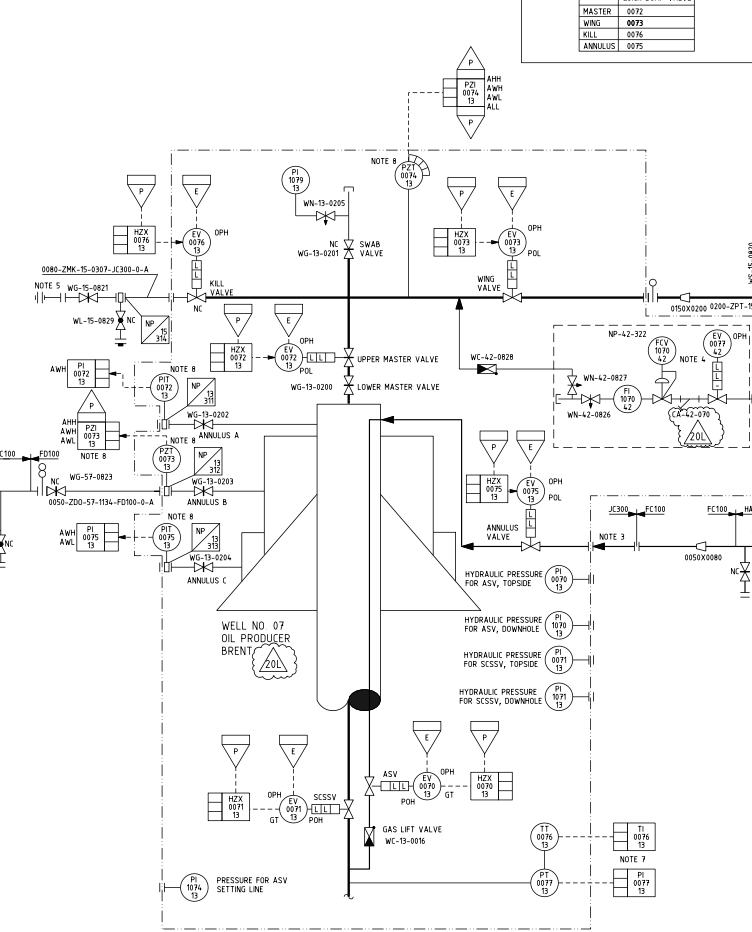Instrument: (523, 816, 565, 853), (272, 160, 315, 196), (391, 157, 429, 197), (269, 339, 306, 377), (541, 558, 577, 596), (613, 381, 647, 421), (175, 224, 215, 258), (642, 334, 680, 368), (408, 769, 444, 804), (149, 439, 185, 474), (544, 678, 574, 719), (528, 864, 562, 900), (277, 788, 308, 827), (148, 519, 183, 553), (543, 606, 576, 642), (148, 369, 182, 402), (544, 643, 576, 678), (701, 327, 733, 361), (179, 869, 210, 904), (498, 227, 531, 256), (517, 473, 546, 506)
Instrument-square: (423, 222, 486, 261), (603, 862, 663, 901), (60, 347, 114, 390), (206, 337, 257, 382), (608, 812, 662, 854), (108, 219, 164, 258), (67, 416, 122, 453), (466, 766, 518, 805), (202, 786, 254, 825), (466, 467, 513, 508), (72, 517, 122, 555), (447, 71, 488, 111)
